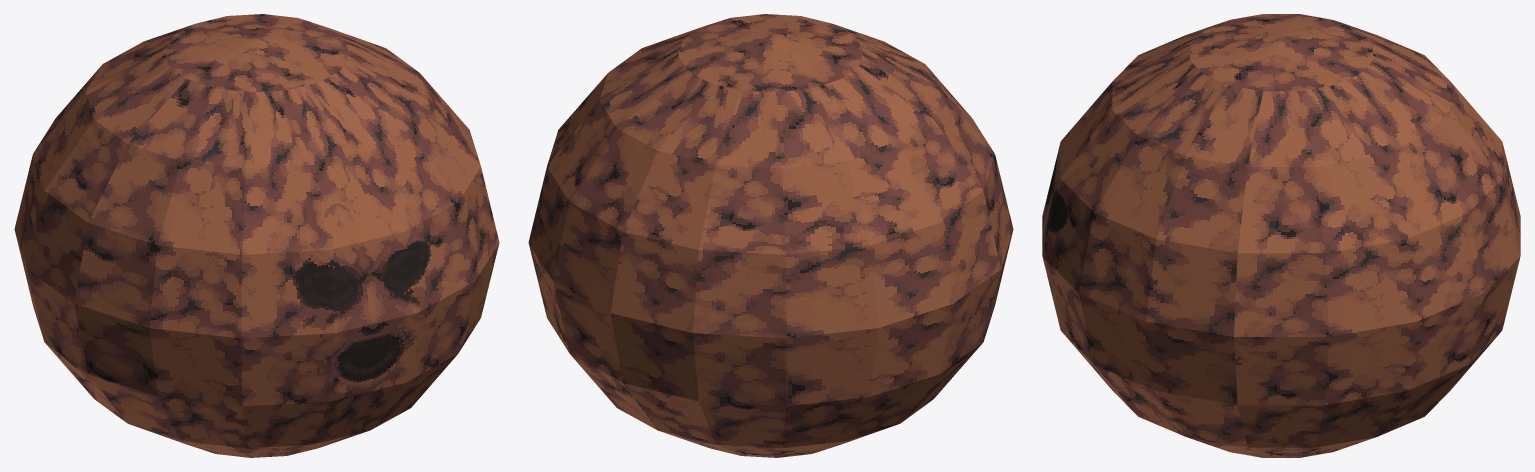
The picture shows the model from 3 angles, left to right: view 1: azimuth 30°, elevation 25°; view 2: azimuth 150°, elevation 25°; view 3: azimuth 270°, elevation 25°; orthographic projection.
Visible parts, largest first — view 1: sphere; view 2: sphere; view 3: sphere.
Part boxes in pixels (x1,y1,x2,y2): sphere: (14, 14, 499, 457); sphere: (528, 14, 1013, 457); sphere: (1042, 14, 1520, 457).
Size of the model in its own units: 1 by 0.9158 by 1.
1 material, 1 textured.
